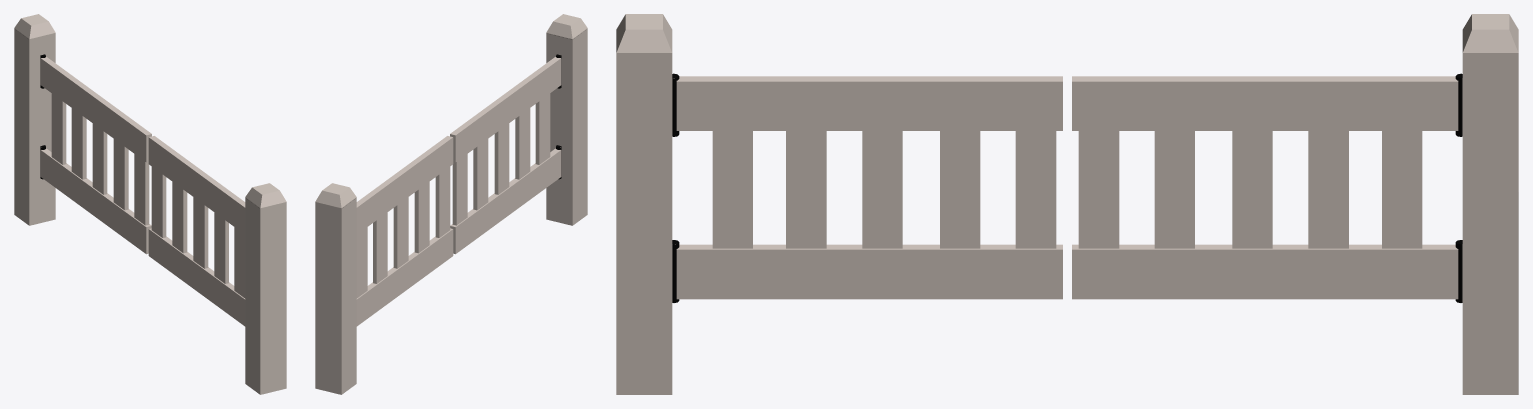
The model's file is gate.glb.
The picture shows the model from 3 angles, left to right: view 1: azimuth 30°, elevation 25°; view 2: azimuth 150°, elevation 25°; view 3: azimuth 270°, elevation 25°; orthographic projection. The views are drawn at different scales.
Visible parts, largest first — view 1: Gate_base_bake, Gate Right.001, Gate Left.001; view 2: Gate_base_bake, Gate Left.001, Gate Right.001; view 3: Gate Left.001, Gate Right.001, Gate_base_bake.
Boxes of the visible parts, x1=… form: Gate_base_bake: x1=14, y1=14, x2=286, y2=394; Gate Right.001: x1=40, y1=57, x2=151, y2=254; Gate Left.001: x1=148, y1=136, x2=245, y2=326; Gate_base_bake: x1=315, y1=14, x2=587, y2=394; Gate Left.001: x1=450, y1=57, x2=561, y2=254; Gate Right.001: x1=356, y1=136, x2=453, y2=326; Gate Left.001: x1=676, y1=76, x2=1062, y2=299; Gate Right.001: x1=1072, y1=76, x2=1458, y2=299; Gate_base_bake: x1=616, y1=14, x2=1518, y2=394.
Bounding box in the file's own units: 0.1667 × 1.19 × 2.69.
Materials: 2 (1 with a texture image).
